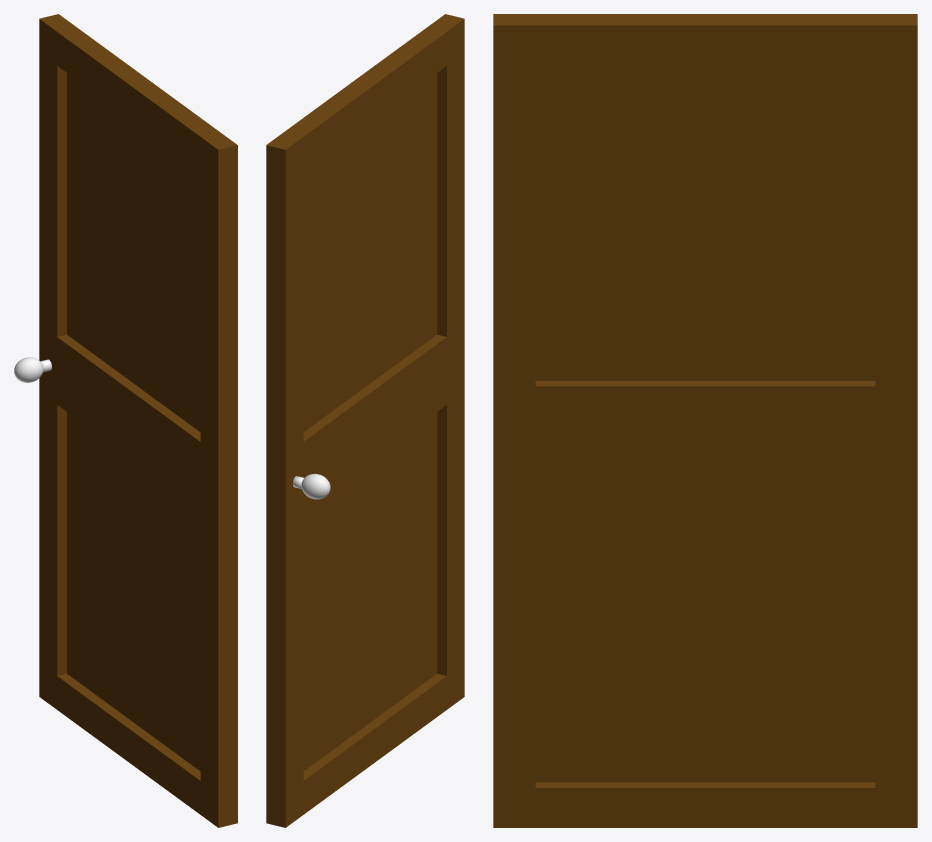
The model's file is Door0Hole.fbx.
3 views of the same model, side by side, from view 1: azimuth 30°, elevation 25°; view 2: azimuth 150°, elevation 25°; view 3: azimuth 270°, elevation 25° (orthographic). The views are drawn at different scales.
Visible parts, largest first — view 1: Door, DoorHandle; view 2: Door, DoorHandle; view 3: Door.
Boxes of the visible parts, left/top/right/bottom form: Door: left=39, top=14, right=237, bottom=827; DoorHandle: left=14, top=357, right=43, bottom=382; Door: left=266, top=14, right=464, bottom=827; DoorHandle: left=301, top=473, right=330, bottom=499; Door: left=493, top=14, right=917, bottom=827.
Size of the model in its own units: 219 by 2669 by 1278.
